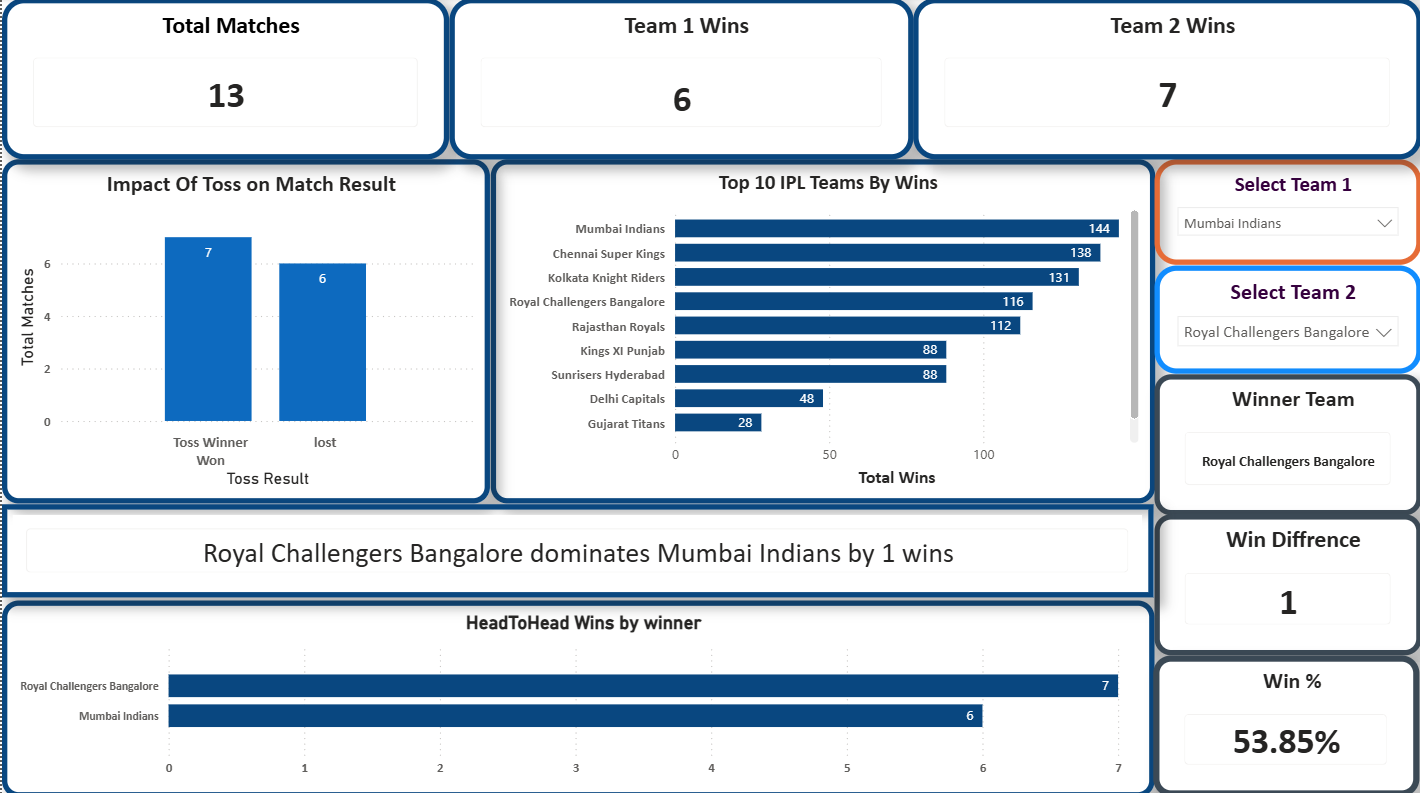

The dashboard page shown, as its layout file describes it:
{"tool":"powerbi","page":{"name":"Page 1","canvas":[1280,720],"ordinal":0},"visuals":[{"type":"barChart","title":"Top 10 IPL Teams By Wins","fields":{"Category":["ipl_matches.winner"],"Y":["CountNonNull(ipl_matches.winner)"]},"box":[440.2,145.5,599.2,310.6],"z":0},{"type":"clusteredColumnChart","title":"Impact Of Toss on Match Result","fields":{"Category":["ipl_matches.Toss Result"],"Y":["ipl_matches.Total Matches"]},"box":[0,145.5,440.2,310.6],"z":1000},{"type":"slicer","title":"Select Team 1","fields":{"Values":["ipl_matches.team1"]},"box":[1039.4,145.5,240.9,95.4],"z":2000},{"type":"slicer","title":"Select Team 2","fields":{"Values":["ipl_matches.team2"]},"box":[1039.4,240.9,240.9,97.8],"z":3000},{"type":"clusteredBarChart","fields":{"Category":["ipl_matches.winner"],"Y":["ipl_matches.HeadToHead Wins"]},"box":[0,542.9,1039.4,177.3],"z":4000},{"type":"cardVisual","title":"Total Matches","fields":{"Data":["ipl_matches.Total Matches"]},"box":[0,0,403.5,145.5],"z":5000},{"type":"cardVisual","title":"Team 1 Wins","fields":{"Data":["ipl_matches.Team1 Wins"]},"box":[403.5,0,418.2,145.5],"z":6000},{"type":"cardVisual","title":"Team 2 Wins","fields":{"Data":["ipl_matches.Team2 Wins"]},"box":[821.7,0,458.6,145.5],"z":7000},{"type":"cardVisual","title":"Winner Team ","fields":{"Data":["ipl_matches.Winner Team"]},"box":[1039.4,338.7,240.9,127.2],"z":8000},{"type":"cardVisual","title":"Win Diffrence","fields":{"Data":["ipl_matches.Win Diffrence"]},"box":[1039.4,465.9,240.9,127.2],"z":9000},{"type":"cardVisual","title":"Win %","fields":{"Data":["ipl_matches.Win %"]},"box":[1038.2,593.1,239.7,127.2],"z":10000},{"type":"cardVisual","fields":{"Data":["ipl_matches.Dynamic Insight"]},"box":[0,456.1,1038.2,84.4],"z":10001}]}

Visuals, with their boxes in screenshot pixels (x1, y1, x2, y2), scaled from the page's 1280x720 canvas onto the 1420x793 screenshot:
"Top 10 IPL Teams By Wins" barChart: pyautogui.locateOnScreen(488, 160, 1153, 502)
"Impact Of Toss on Match Result" clusteredColumnChart: pyautogui.locateOnScreen(0, 160, 488, 502)
"Select Team 1" slicer: pyautogui.locateOnScreen(1153, 160, 1419, 265)
"Select Team 2" slicer: pyautogui.locateOnScreen(1153, 265, 1419, 373)
clusteredBarChart - ipl_matches.winner x ipl_matches.HeadToHead Wins: pyautogui.locateOnScreen(0, 598, 1153, 792)
"Total Matches" cardVisual: pyautogui.locateOnScreen(0, 0, 448, 160)
"Team 1 Wins" cardVisual: pyautogui.locateOnScreen(448, 0, 912, 160)
"Team 2 Wins" cardVisual: pyautogui.locateOnScreen(912, 0, 1419, 160)
"Winner Team " cardVisual: pyautogui.locateOnScreen(1153, 373, 1419, 513)
"Win Diffrence" cardVisual: pyautogui.locateOnScreen(1153, 513, 1419, 653)
"Win %" cardVisual: pyautogui.locateOnScreen(1152, 653, 1418, 792)
cardVisual - ipl_matches.Dynamic Insight: pyautogui.locateOnScreen(0, 502, 1152, 595)
